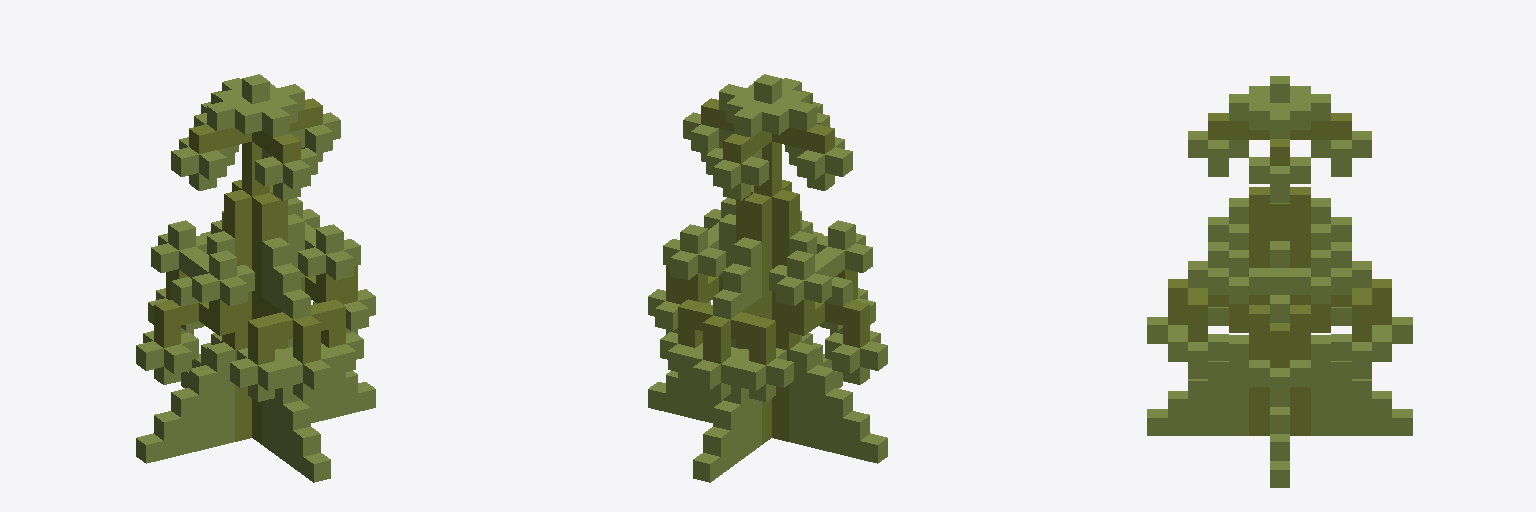
3 renders of one model, left to right at view 1: azimuth 30°, elevation 25°; view 2: azimuth 150°, elevation 25°; view 3: azimuth 270°, elevation 25°, orthographic.
Parts seen in each view (by area): view 1: LunaTree1Top; view 2: LunaTree1Top; view 3: LunaTree1Top.
Part boxes in pixels (x1,y1,x2,y2): LunaTree1Top: (136,74,375,482); LunaTree1Top: (648,74,887,482); LunaTree1Top: (1147,76,1412,487).
Size of the model in its own units: 13 by 19 by 13.
Materials: 1 (1 with a texture image).